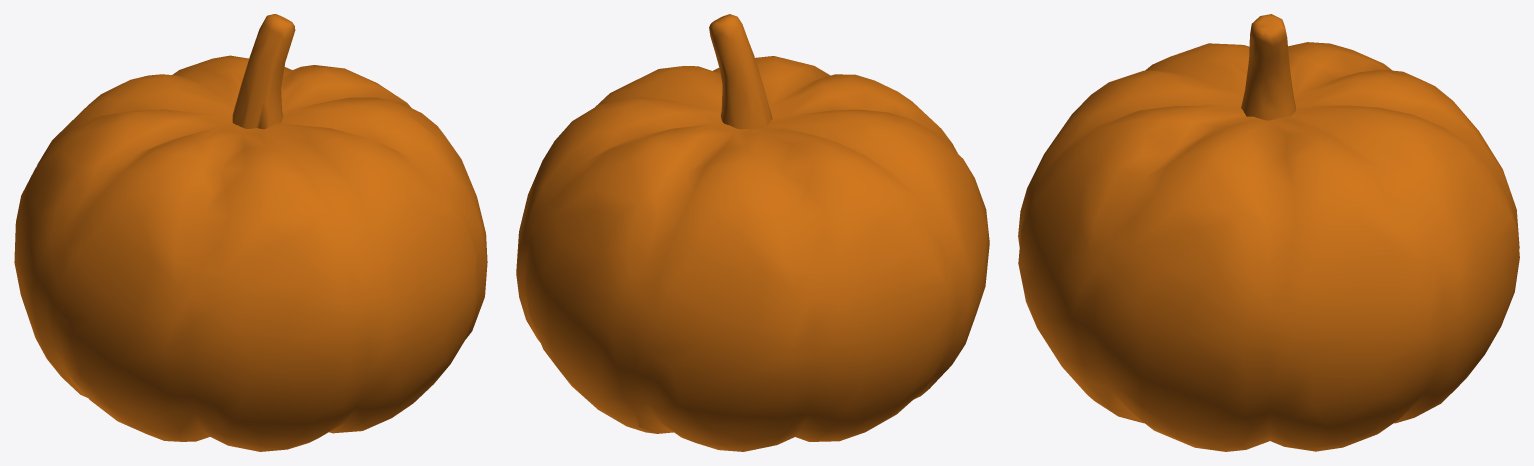
The model's file is Pumpkin.fbx.
The picture shows the model from 3 angles, left to right: view 1: azimuth 30°, elevation 25°; view 2: azimuth 150°, elevation 25°; view 3: azimuth 270°, elevation 25°; orthographic projection. The views are drawn at different scales.
Visible parts, largest first — view 1: Pumpkin; view 2: Pumpkin; view 3: Pumpkin.
Part boxes in pixels (box(x1,y1,x2,y2)): Pumpkin: box(14, 14, 487, 451); Pumpkin: box(516, 14, 989, 451); Pumpkin: box(1018, 14, 1519, 451).
Size of the model in its own units: 33.72 by 29.24 by 33.72.
